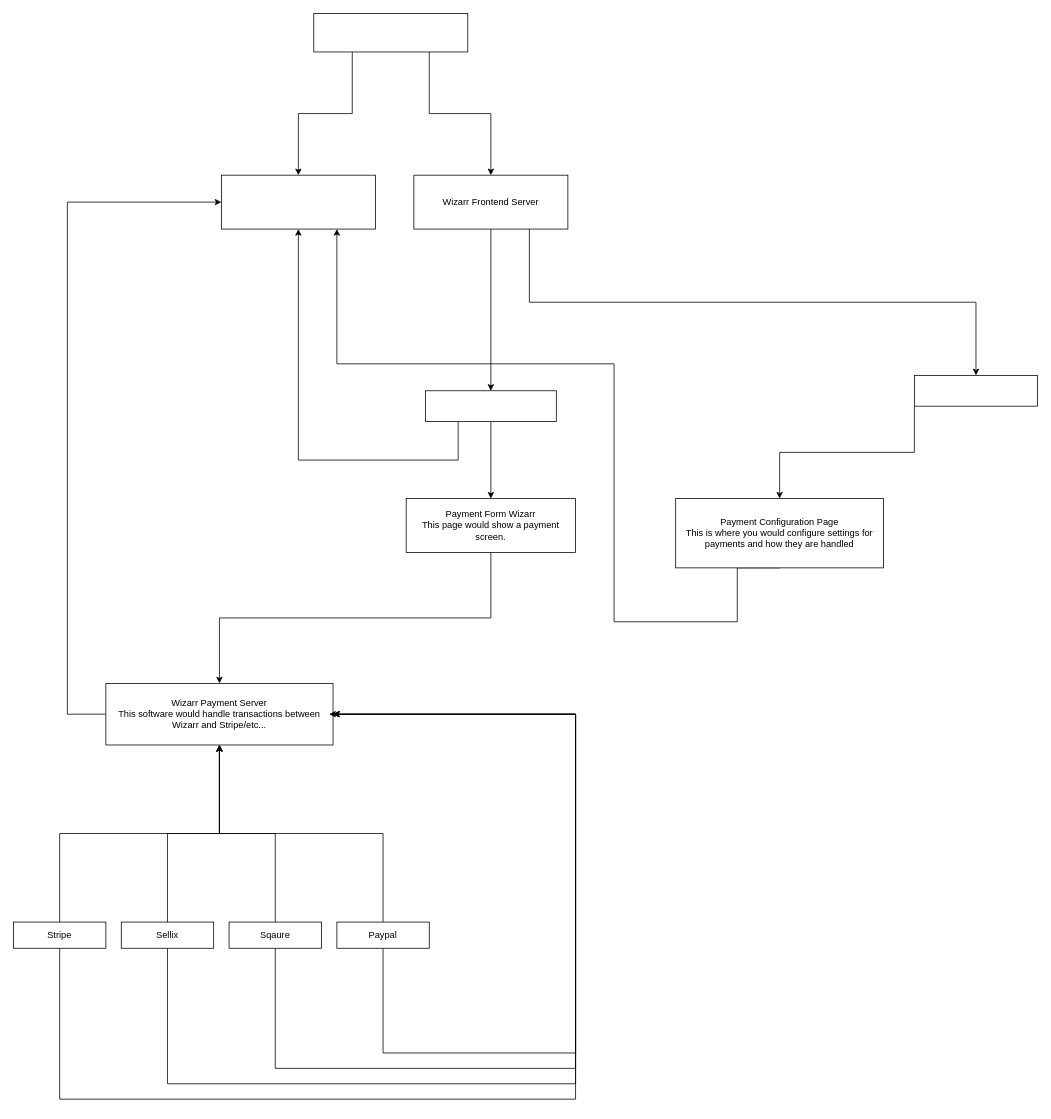
Image size: 1051x1119. Some labels were removed from this diagram. The centre of each missing label's shape, as x and y in pixels:
Admin Portal: the point at 976,390
Signup Wizard: the point at 490,406
Wizarr Backend Server: the point at 298,201
Wizarr Server: the point at 390,32
